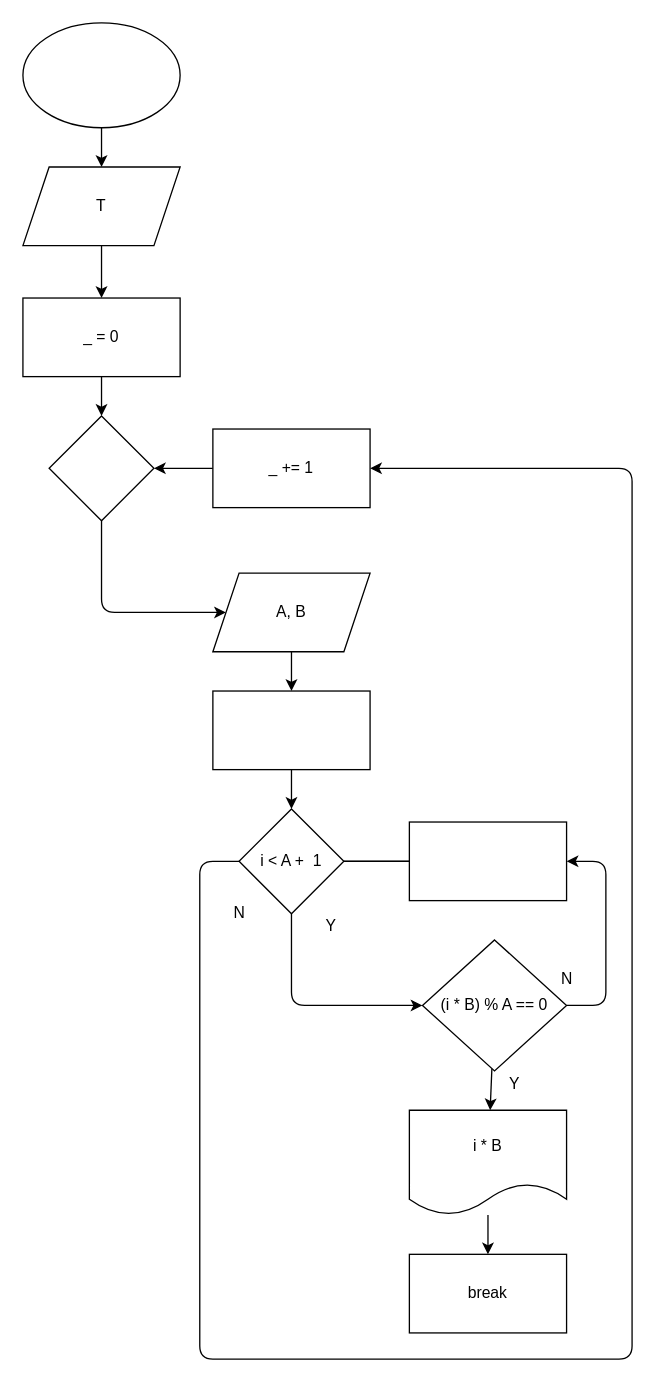
This 665x1393 diagram has some shape labels left out. The centre of each missing label's shape, as x and y in pixels:
"_ < T" belongs at [101,468].
"i += 1" belongs at [487,861].
"i = 1" belongs at [291,730].
"start" belongs at [101,75].
